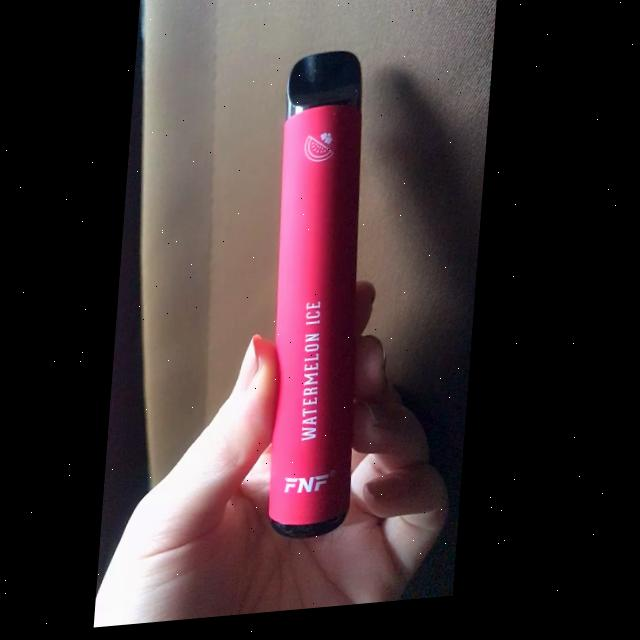vape: (261, 56, 387, 546)
